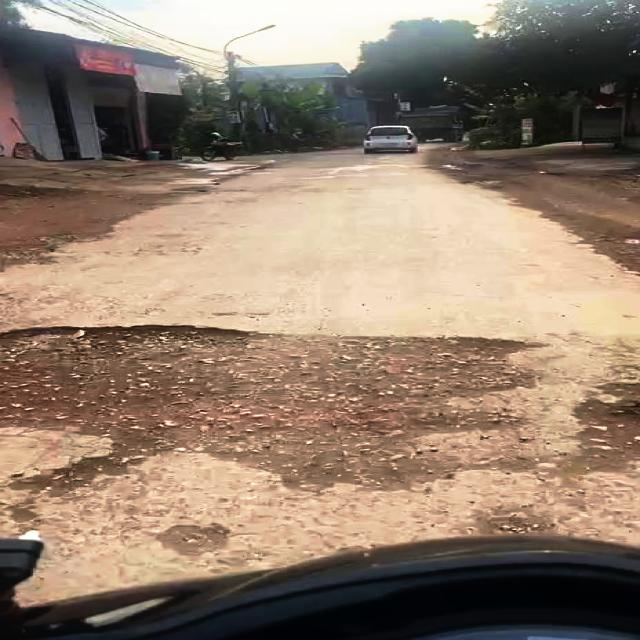pothole: (0, 320, 270, 467), (288, 334, 528, 486), (563, 380, 640, 480)
